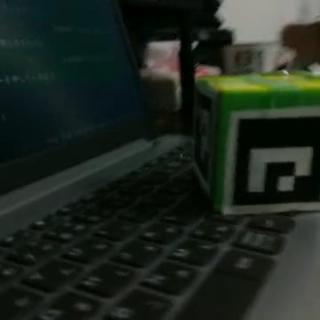armor: (224, 106, 320, 215)
robot: (194, 67, 320, 217)
